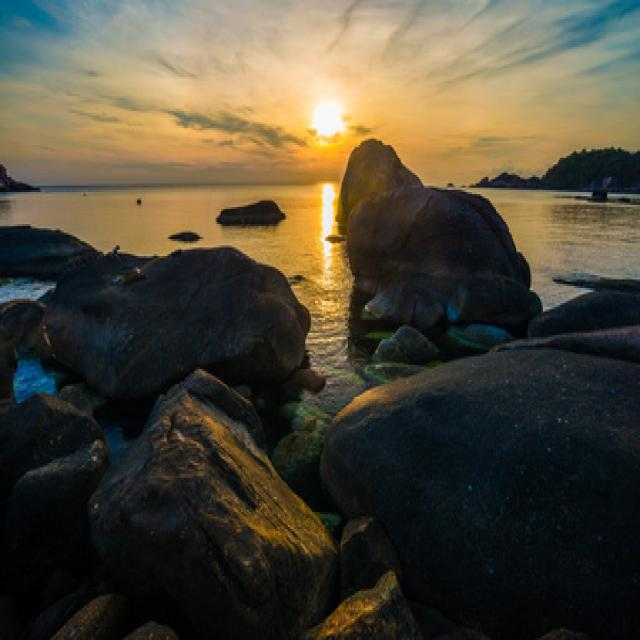reef: (222, 174, 534, 368)
